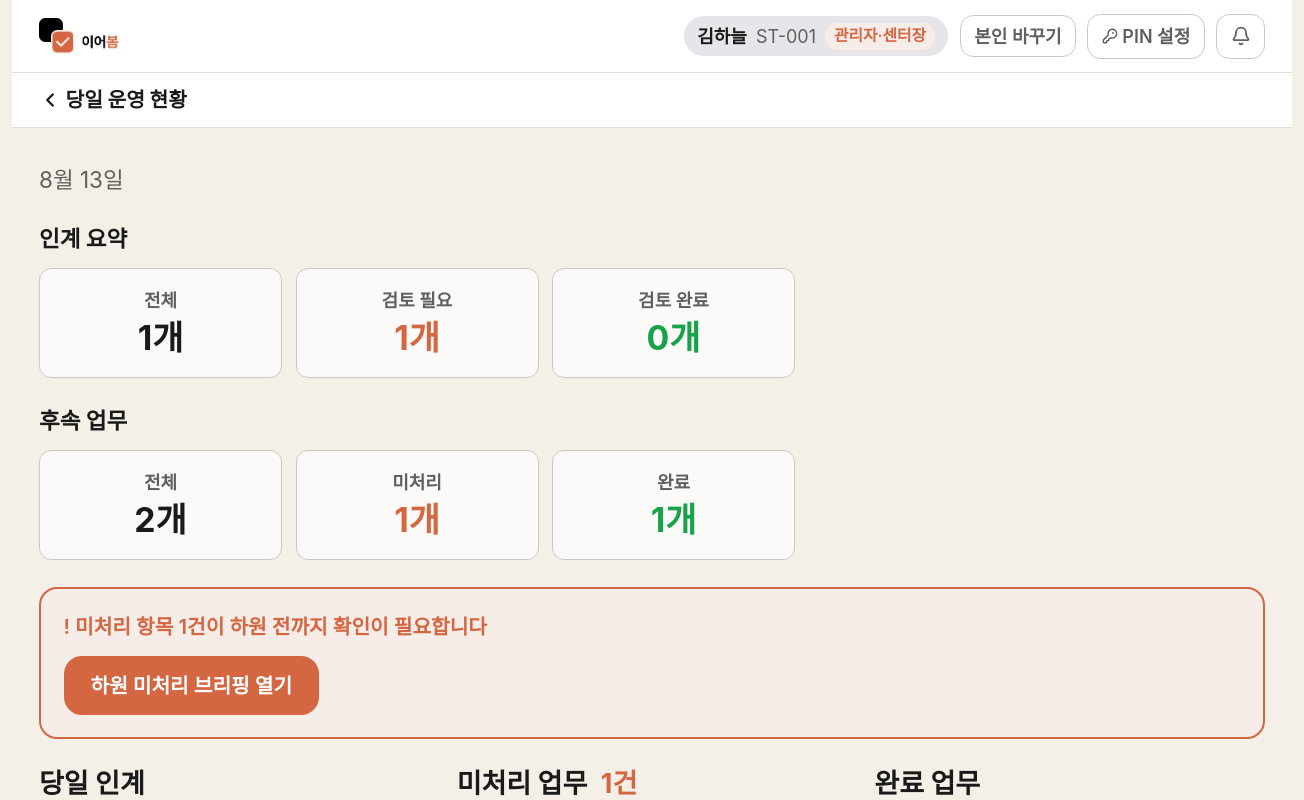
Test: 당일 운영 현황 대시보드 (n42 관리자 대시보드 · n43 당일 인계·업무 현황) › 하원 전 미처리 브리핑 박스에 미처리 건수를 보여주고, 클릭하면 브리핑으로 이동한다
Expected: the text "! 미처리 항목 1건이 하원 전까지 확인이 필요합니다" is shown, x1=64 y1=614 x2=487 y2=639
Click the link "하원 미처리 브리핑 열기": (191, 685) x1=64 y1=656 x2=319 y2=714
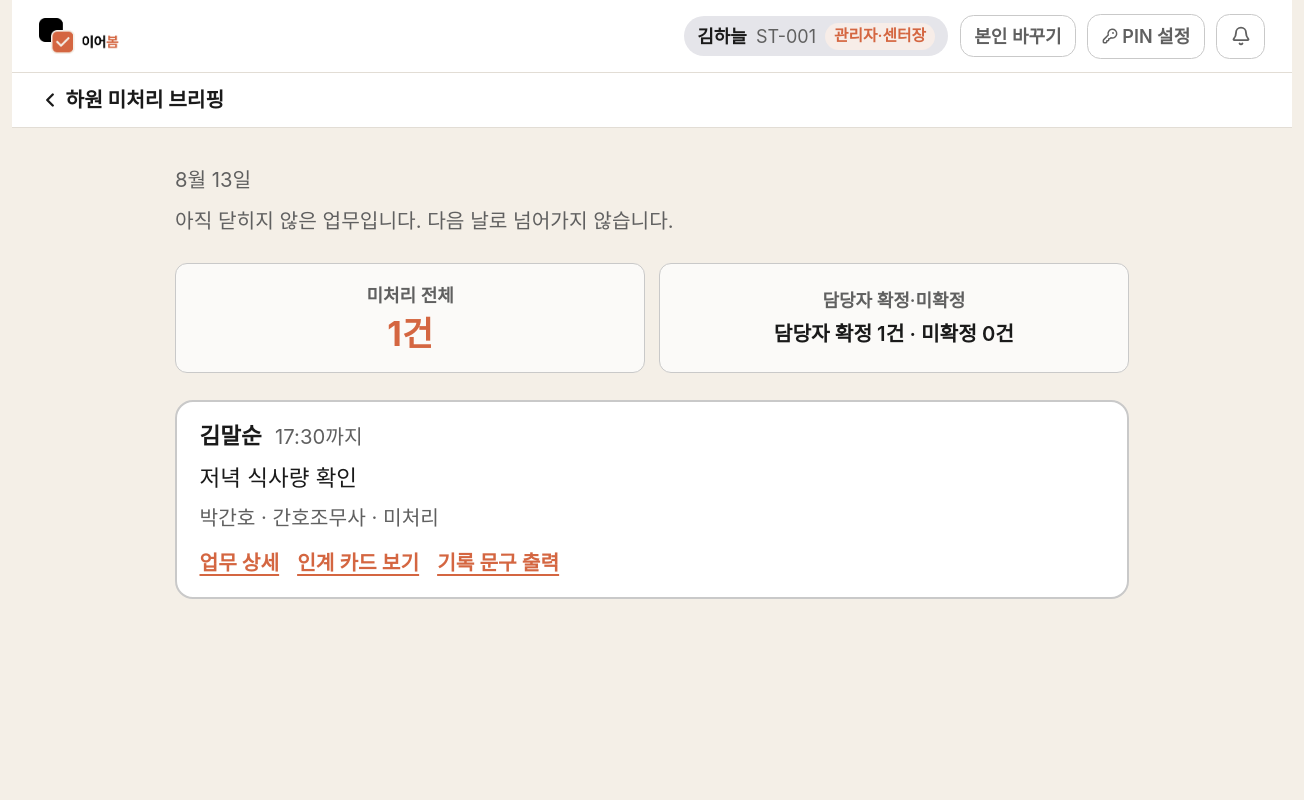
Result: the text "하원 미처리 브리핑" is shown at x1=66 y1=84 x2=224 y2=116
